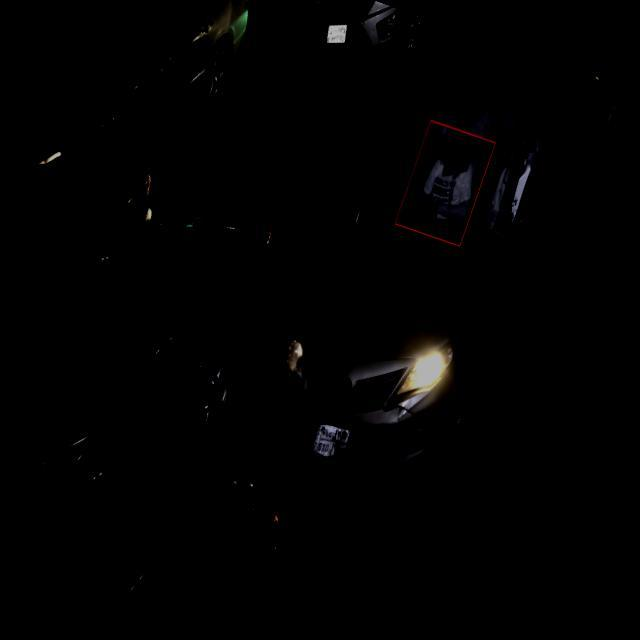windshield: (385, 119, 563, 263)
